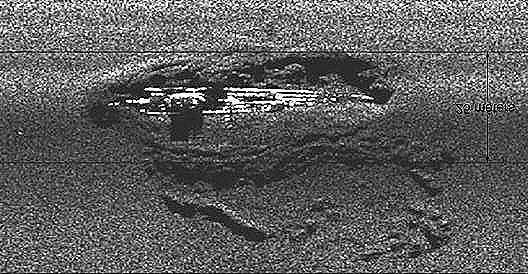ship: (102, 74, 399, 126)
